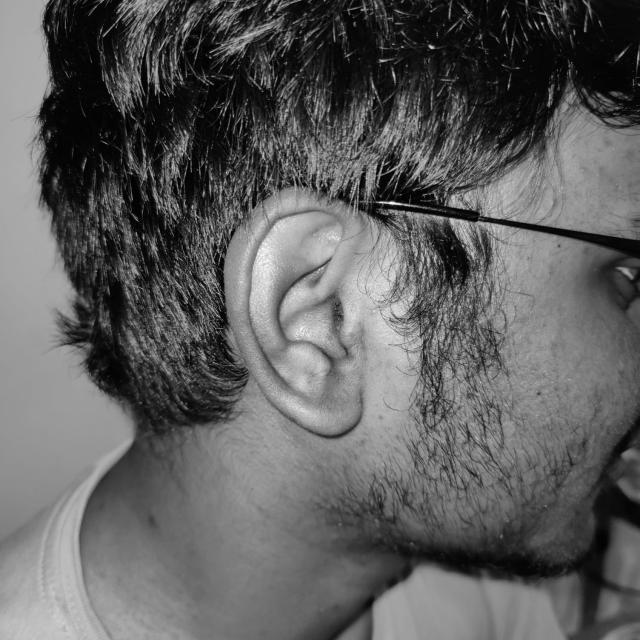ear: (224, 188, 374, 435), (364, 313, 365, 314)
